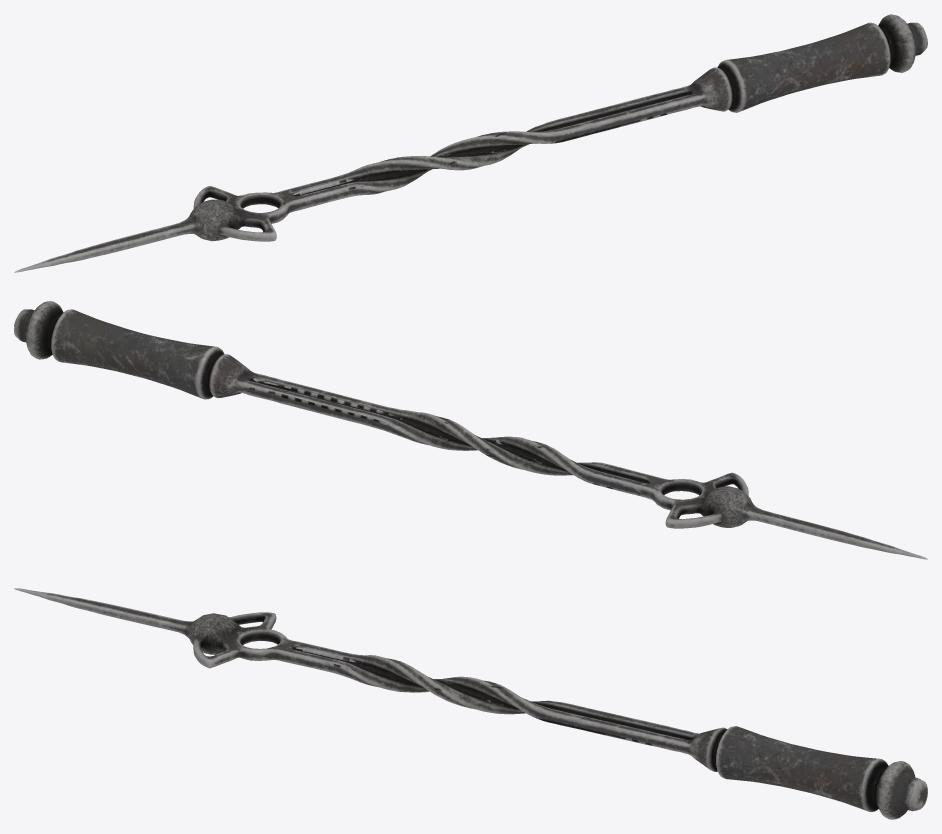
File: w_atizador.glb
3 views of the same model, one above another, from view 1: azimuth 30°, elevation 25°; view 2: azimuth 150°, elevation 25°; view 3: azimuth 330°, elevation 25° (orthographic).
Visible parts, largest first — view 1: defaultMaterial; view 2: defaultMaterial; view 3: defaultMaterial.
Part boxes in pixels (x1=…): defaultMaterial: x1=14, y1=14, x2=927, y2=272; defaultMaterial: x1=14, y1=301, x2=927, y2=559; defaultMaterial: x1=14, y1=588, x2=927, y2=819.
Bounding box in the file's own units: 0.75 × 0.0438 × 0.0954.
Materials: 1 (1 with a texture image).
